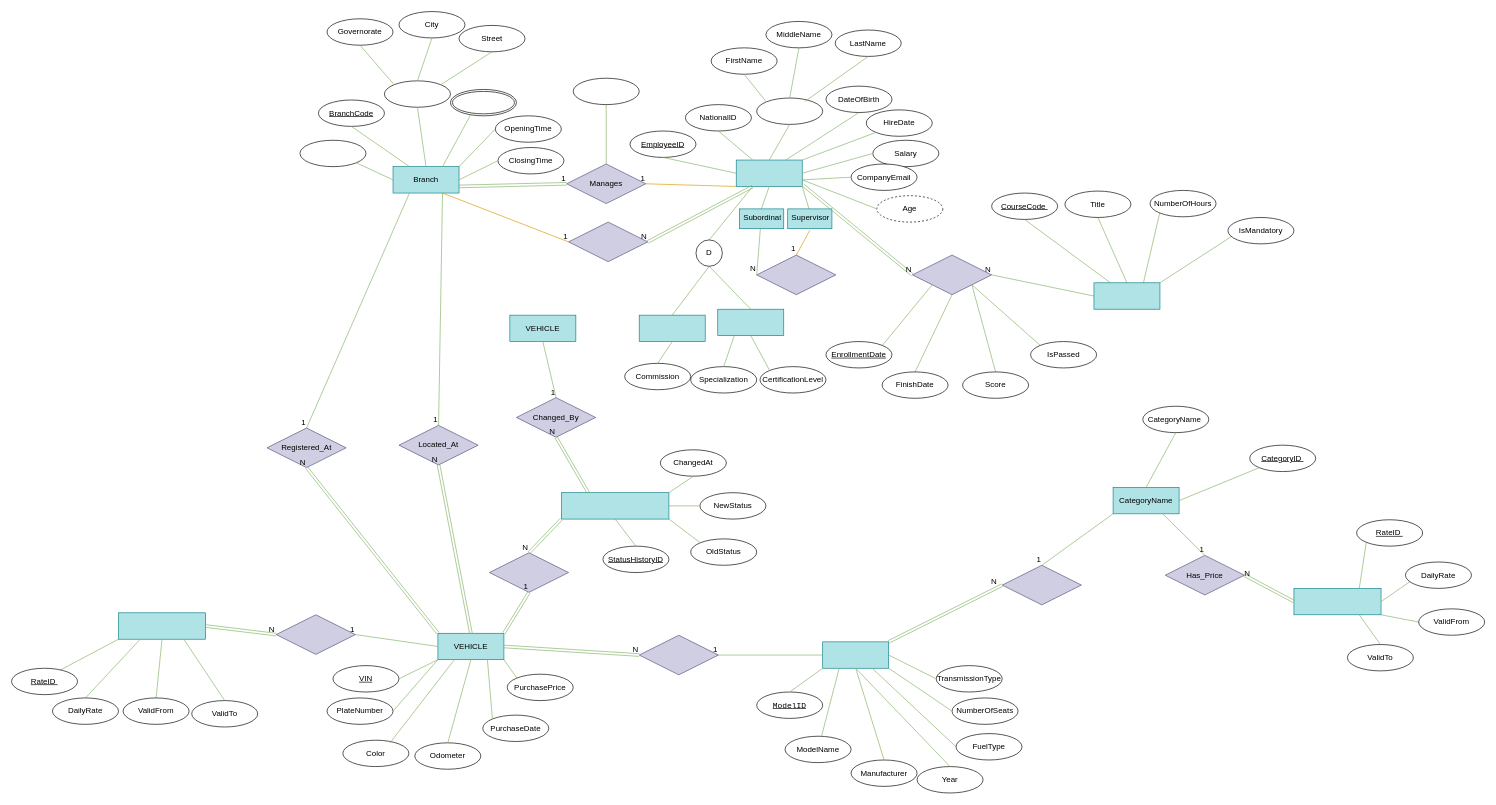
Image size: 1496x805. Some labels were removed from this diagram. The box of each missing label's shape, as (x1, y1, x2, y2) in pixels:
Address: (384, 80, 450, 107)
Assigned_To: (568, 221, 648, 262)
Belongs_To: (1002, 565, 1081, 605)
CAR_MODEL: (822, 641, 889, 668)
CATEGORY_PRICE: (1293, 588, 1381, 615)
Course: (1093, 282, 1160, 309)
EMPLOYEE: (736, 159, 802, 186)
Enrolls_In: (912, 254, 992, 295)
FullName: (756, 97, 823, 124)
Has_Special_Price: (276, 614, 355, 654)
Has_Status_Log: (489, 552, 569, 592)
Is_Of: (639, 635, 718, 675)
MECHANIC: (717, 309, 784, 336)
Name: (299, 140, 366, 167)
Phone: (450, 89, 516, 116)
RENTAL_AGENT: (639, 314, 705, 342)
SPECIAL_PRICE: (118, 612, 206, 639)
StartDate: (573, 78, 639, 105)
supervice: (756, 254, 836, 295)
VEHICLE_STATUS_HISTORY: (561, 492, 669, 519)
